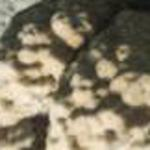alive: (3, 2, 149, 148)
